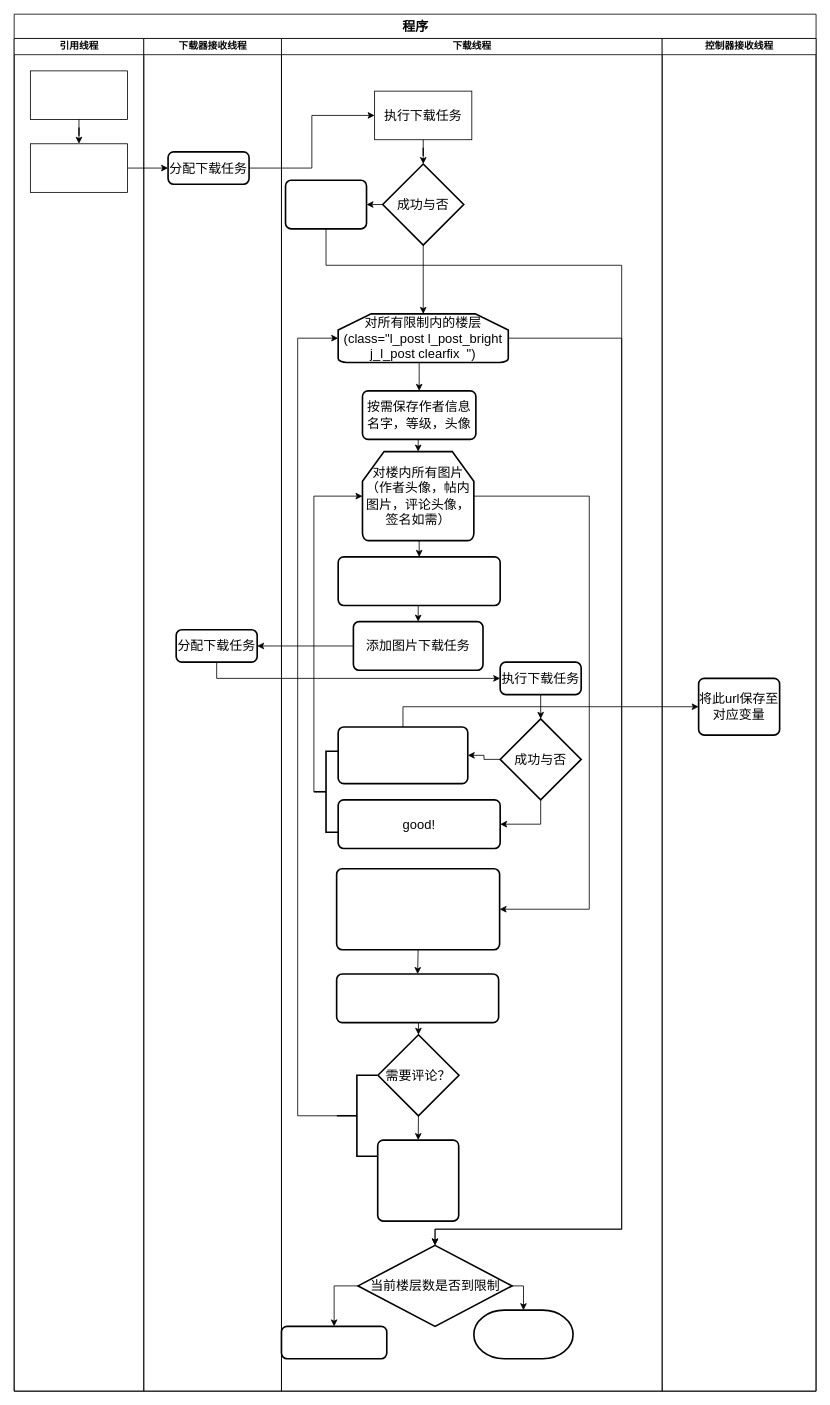
The diagram is 830 pixels wide and 1405 high, and some of its shapes have lost their labels. The box of each missing label's shape, as (x1, y1, x2, y2) in pixels:
从评论链接提取评论: (376, 1139, 459, 1221)
以免开贴的形式的形式暂存失败图片地址，404则跳过: (337, 726, 468, 784)
将 class =" p_author "下需要提取的内容存入变量: (335, 973, 499, 1023)
将d_post_content j_d_post_content提取，作为楼层内容存入变量: (335, 868, 500, 950)
无失败内容则完成，有则失败: (473, 1309, 573, 1359)
暂存失败的页面计数,404则跳过: (284, 179, 367, 229)
添加贴子任务: (30, 70, 128, 119)
添加贴子页面i下载任务: (30, 143, 128, 192)
添加页面下载任务i+1: (280, 1325, 387, 1359)
重定向该图片地址到本地，格式为<期待路径>/图片id.xxx: (337, 556, 501, 606)
